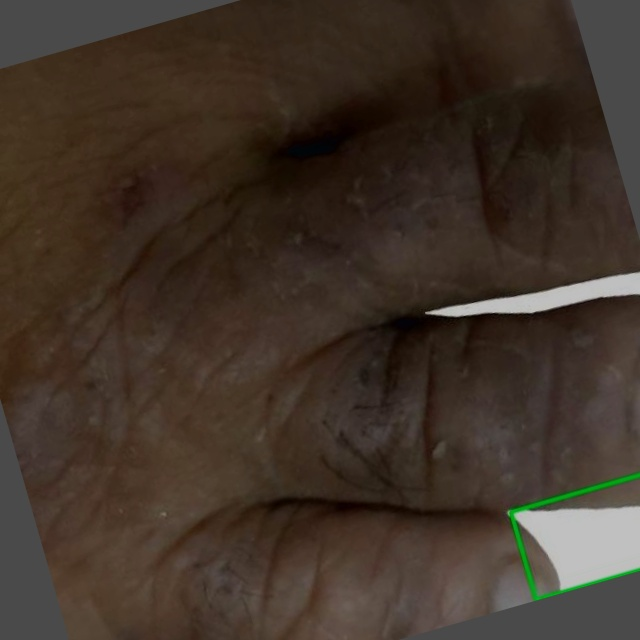Eczema: (511, 475, 639, 599)
